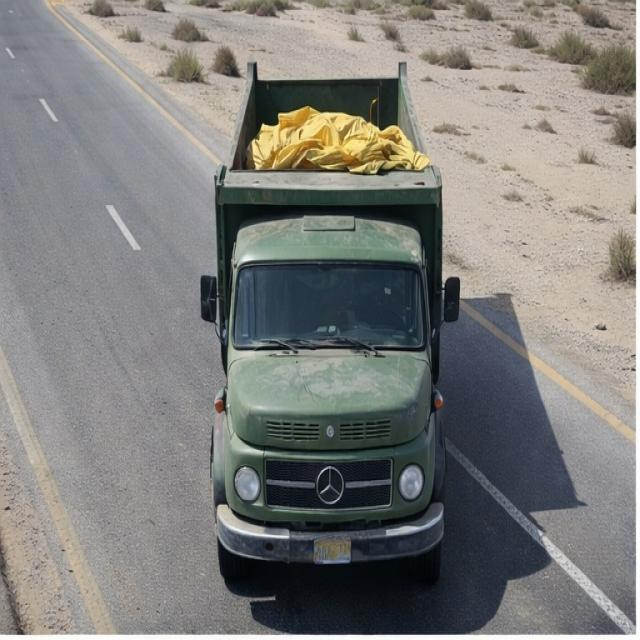Box: (210, 60, 442, 194)
Truck: (198, 31, 462, 588)
